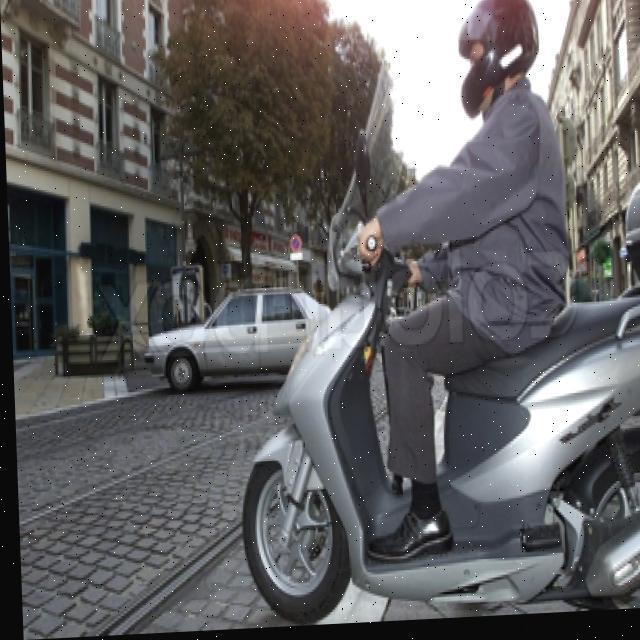Helmet: (452, 0, 542, 128)
